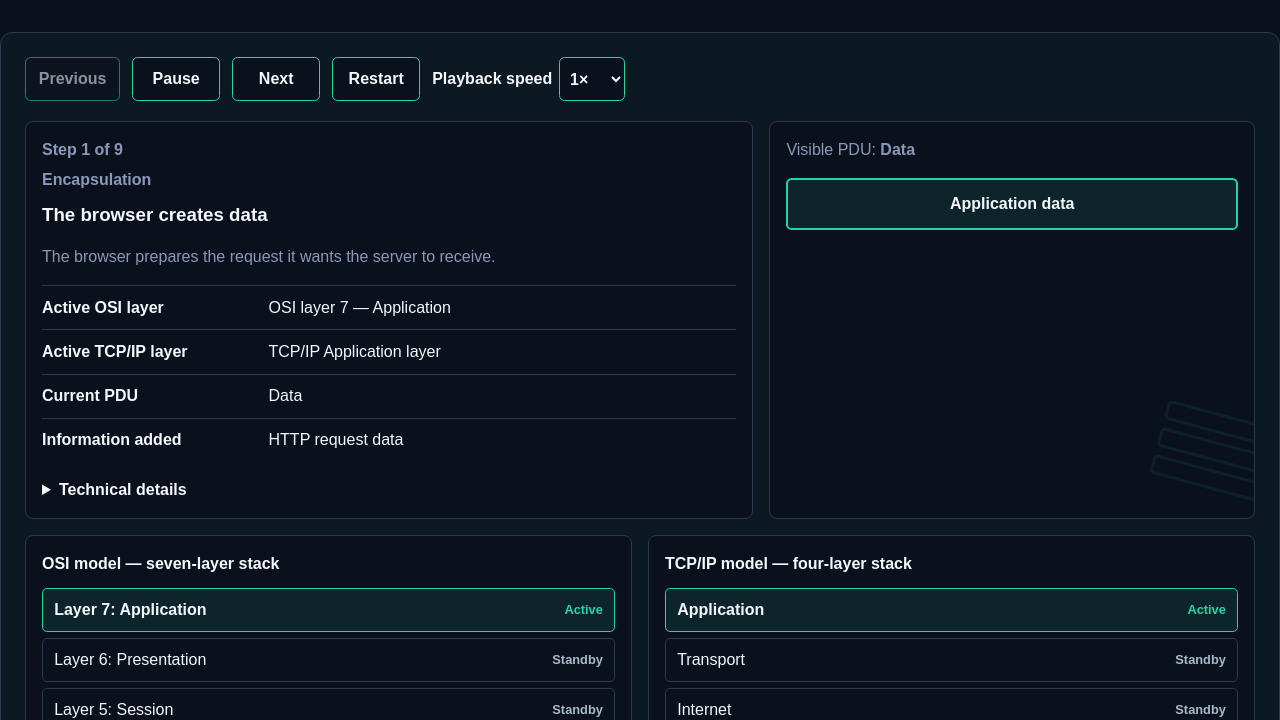
Test case: EncapsulationPlayer › pauses, resumes, and maintains exactly one timer
Click the button "Pause" at (176, 79), box [132,57,220,101]
Wait 2400 ms
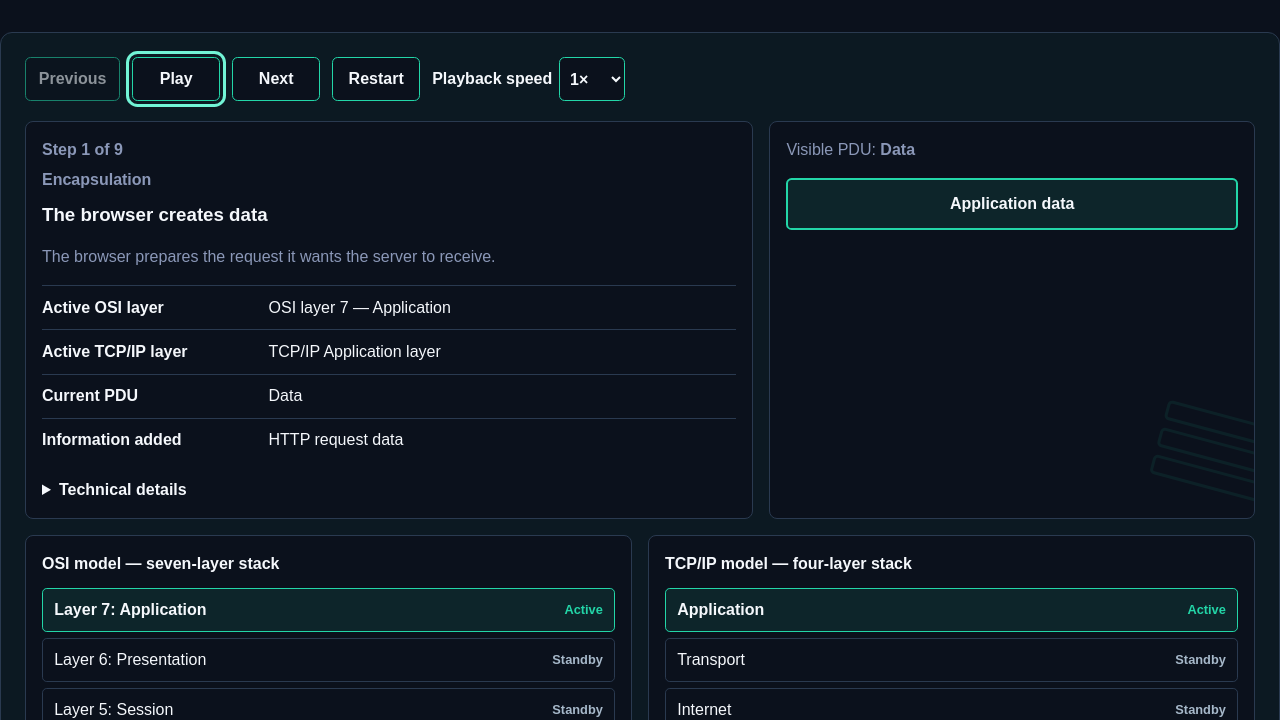
Expected: the text "Step 1 of 9" is shown, [42,141,123,158]
Click the button "Play" at (176, 79), box [132,57,220,101]
Wait 2400 ms
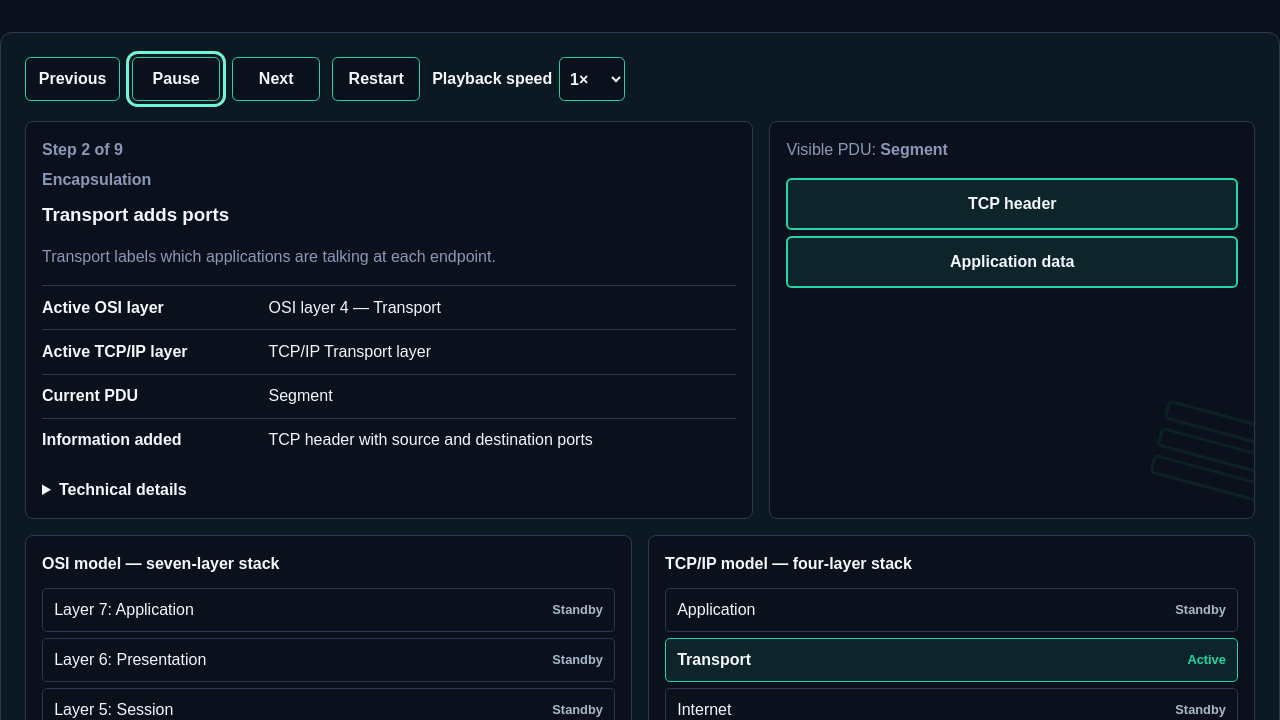
Expected: the text "Step 2 of 9" is shown, [42,141,123,158]
